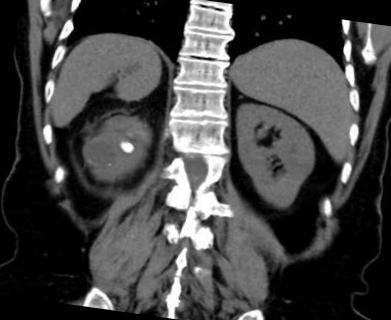Tas_Var: (117, 138, 136, 156)
